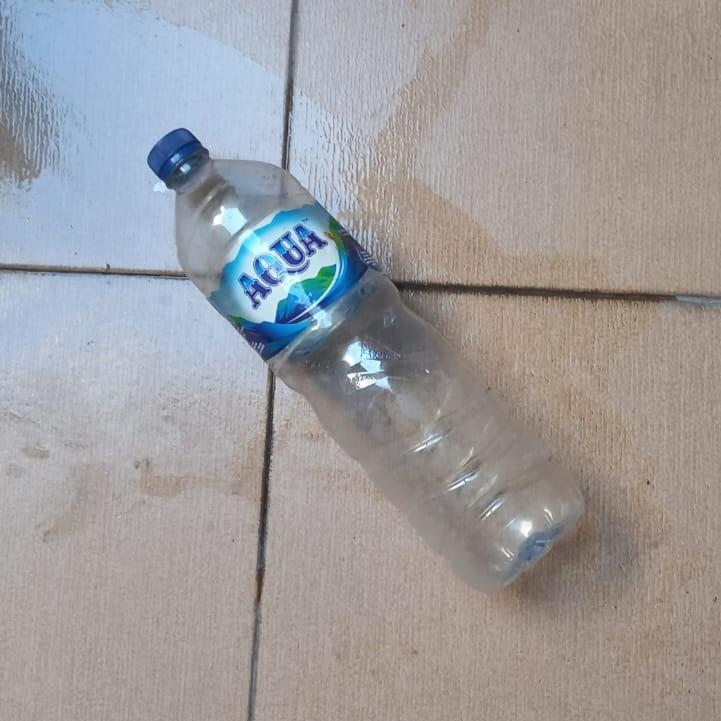Plastik: (146, 128, 587, 595)
